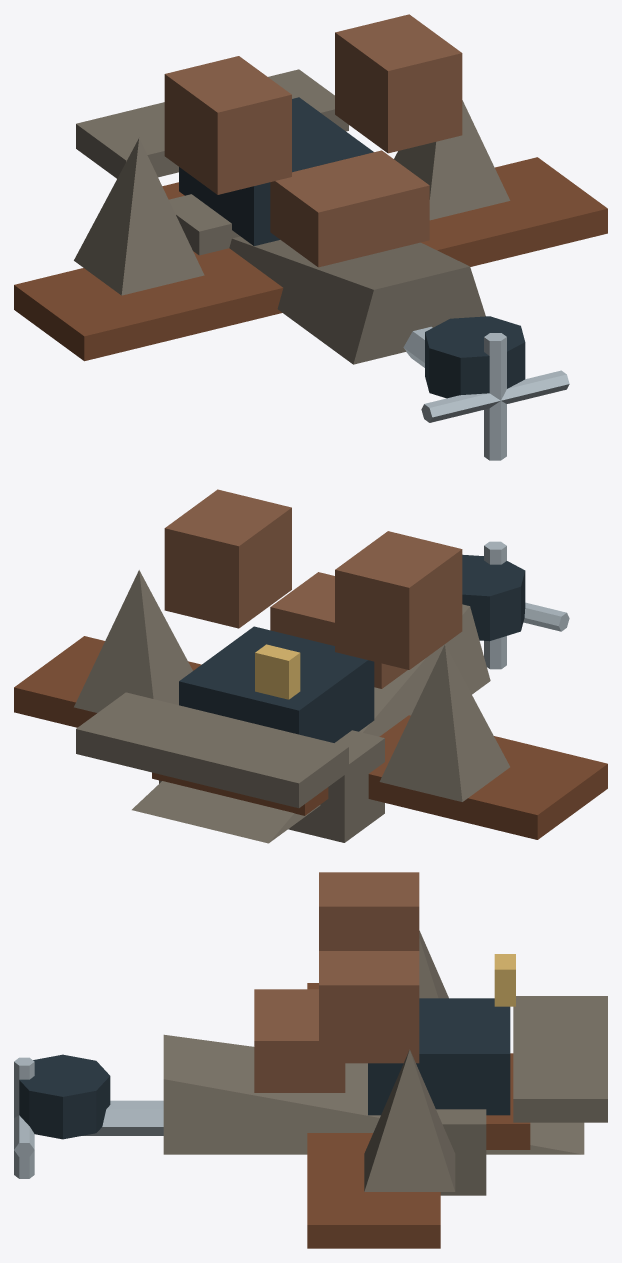
File: interceptor.obj
The picture shows the model from 3 angles, top to bottom: view 1: azimuth 30°, elevation 25°; view 2: azimuth 150°, elevation 25°; view 3: azimuth 270°, elevation 25°; orthographic projection. The views are drawn at different scales.
Visible parts, largest first — view 1: air; view 2: air; view 3: air.
Boxes of the visible parts, <box> form: air: <box>14,14,607,460</box>; air: <box>14,489,607,843</box>; air: <box>14,872,607,1248</box>.
Bounding box in the file's own units: 2.4 × 1.14 × 2.49.
